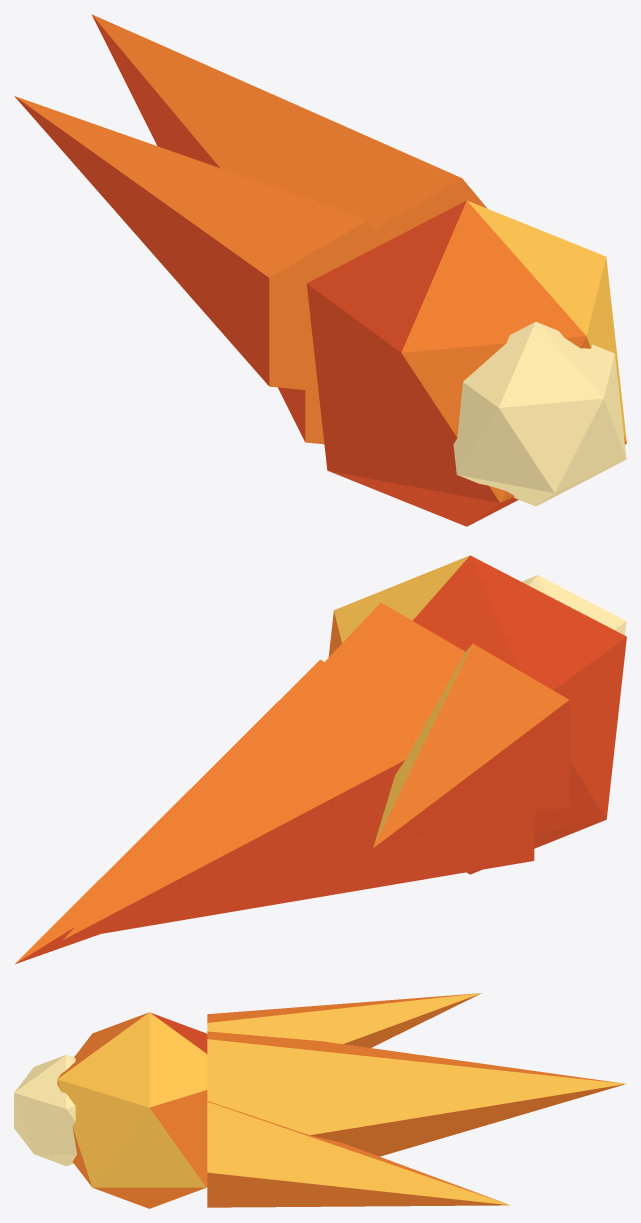
File: proj_fireball.glb
3 views of the same model, one above another, from view 1: azimuth 30°, elevation 25°; view 2: azimuth 150°, elevation 25°; view 3: azimuth 270°, elevation 25° (orthographic). The views are drawn at different scales.
Parts seen in each view (by area): view 1: Proj_ball, Proj_tongue_r, Proj_tongue, Proj_core; view 2: Proj_tongue, Proj_ball, Proj_tongue_r, Proj_tongue_l, Proj_core; view 3: Proj_tongue, Proj_ball, Proj_tongue_l, Proj_tongue_r, Proj_core.
Part boxes in pixels (x1=…): Proj_ball: x1=306, y1=200, x2=626, y2=526; Proj_tongue_r: x1=14, y1=96, x2=385, y2=389; Proj_tongue: x1=91, y1=14, x2=487, y2=444; Proj_core: x1=453, y1=322, x2=626, y2=506; Proj_tongue: x1=63, y1=602, x2=534, y2=940; Proj_ball: x1=328, y1=555, x2=626, y2=874; Proj_tongue_r: x1=373, y1=643, x2=569, y2=848; Proj_tongue_l: x1=15, y1=659, x2=324, y2=963; Proj_core: x1=521, y1=575, x2=626, y2=635; Proj_tongue: x1=207, y1=1031, x2=625, y2=1156; Proj_ball: x1=57, y1=1012, x2=207, y2=1208; Proj_tongue_l: x1=207, y1=1101, x2=510, y2=1207; Proj_tongue_r: x1=207, y1=993, x2=481, y2=1047; Proj_core: x1=14, y1=1055, x2=76, y2=1166.
Size of the model in its own units: 0.33 by 0.3 by 0.8473.
